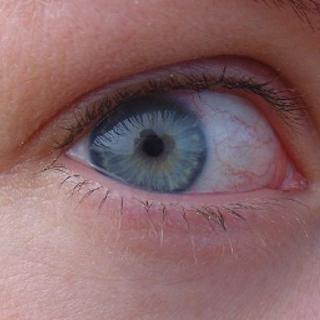pupil: (144, 135, 164, 156)
